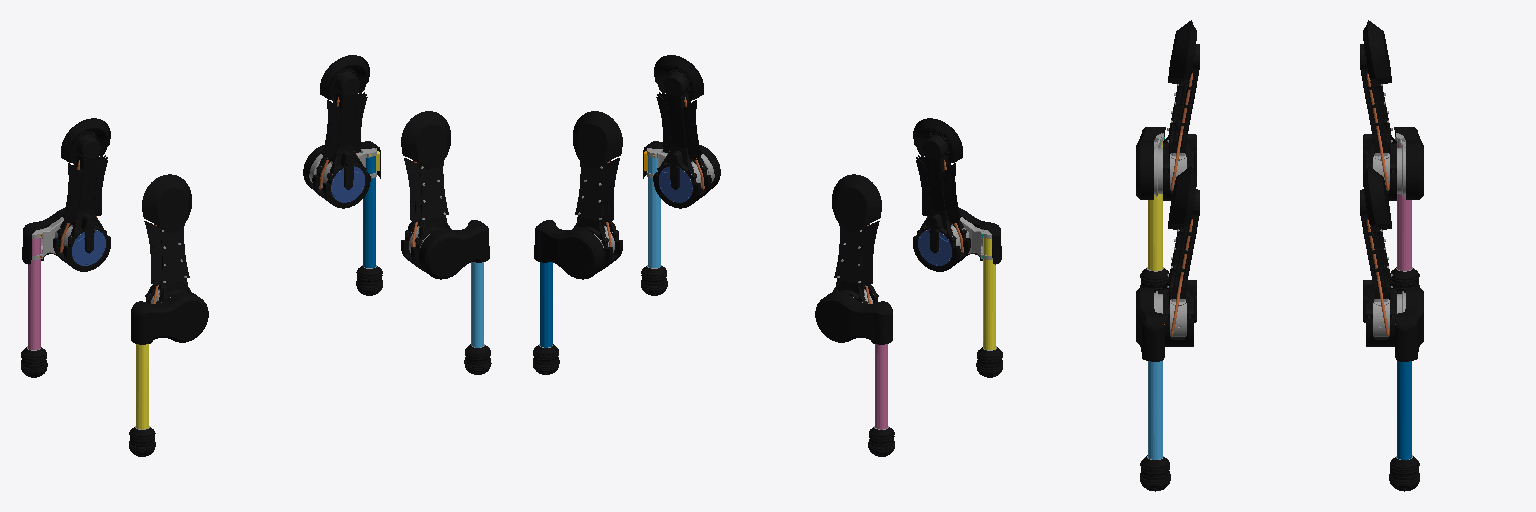
--- Render facts (derived) ---
The picture shows the robot from 3 angles, left to right: view 1: azimuth 30°, elevation 25°; view 2: azimuth 150°, elevation 25°; view 3: azimuth 270°, elevation 25°; orthographic projection.
Robot: anymal — 21 links, 20 joints (12 revolute, 8 fixed); root link base; default pose: all joints at 0.
Visible links, largest first — view 1: LH_THIGH, LF_THIGH, RF_THIGH, RH_THIGH, RH_SHANK, RF_SHANK, LH_ADAPTER, LF_ADAPTER, RF_ADAPTER, RH_ADAPTER, LH_SHANK, LF_SHANK; view 2: RH_THIGH, RF_THIGH, LF_THIGH, LH_THIGH, LH_SHANK, LF_SHANK, RH_ADAPTER, RF_ADAPTER, LF_ADAPTER, LH_ADAPTER, RH_SHANK, RF_SHANK; view 3: LF_THIGH, RF_THIGH, LH_THIGH, RH_THIGH, LF_ADAPTER, RF_ADAPTER, LF_SHANK, RF_SHANK, RH_ADAPTER, LH_ADAPTER, LH_SHANK, RH_SHANK.
Boxes of the visible links, x1=… form: LH_THIGH: x1=53, y1=118, x2=110, y2=271; LF_THIGH: x1=312, y1=55, x2=370, y2=208; RF_THIGH: x1=401, y1=111, x2=450, y2=271; RH_THIGH: x1=142, y1=174, x2=191, y2=303; RH_SHANK: x1=131, y1=292, x2=208, y2=344; RF_SHANK: x1=419, y1=220, x2=489, y2=279; LH_ADAPTER: x1=21, y1=230, x2=47, y2=377; LF_ADAPTER: x1=356, y1=148, x2=382, y2=295; RF_ADAPTER: x1=464, y1=262, x2=491, y2=374; RH_ADAPTER: x1=129, y1=344, x2=155, y2=456; LH_SHANK: x1=22, y1=208, x2=64, y2=264; LF_SHANK: x1=303, y1=141, x2=380, y2=191; RH_THIGH: x1=913, y1=118, x2=970, y2=271; RF_THIGH: x1=653, y1=55, x2=711, y2=208; LF_THIGH: x1=573, y1=111, x2=622, y2=271; LH_THIGH: x1=832, y1=174, x2=881, y2=303; LH_SHANK: x1=815, y1=292, x2=892, y2=344; LF_SHANK: x1=534, y1=220, x2=604, y2=279; RH_ADAPTER: x1=976, y1=230, x2=1002, y2=377; RF_ADAPTER: x1=641, y1=148, x2=667, y2=295; LF_ADAPTER: x1=533, y1=262, x2=559, y2=374; LH_ADAPTER: x1=868, y1=344, x2=894, y2=456; RH_SHANK: x1=959, y1=208, x2=1001, y2=264; RF_SHANK: x1=643, y1=141, x2=720, y2=191; LF_THIGH: x1=1360, y1=166, x2=1401, y2=346; RF_THIGH: x1=1158, y1=166, x2=1199, y2=346; LH_THIGH: x1=1360, y1=20, x2=1401, y2=200; RH_THIGH: x1=1158, y1=20, x2=1199, y2=200; LF_ADAPTER: x1=1389, y1=361, x2=1419, y2=491; RF_ADAPTER: x1=1140, y1=361, x2=1170, y2=491; LF_SHANK: x1=1394, y1=288, x2=1423, y2=361; RF_SHANK: x1=1136, y1=288, x2=1165, y2=361; RH_ADAPTER: x1=1140, y1=133, x2=1169, y2=293; LH_ADAPTER: x1=1390, y1=133, x2=1419, y2=293; LH_SHANK: x1=1394, y1=127, x2=1423, y2=199; RH_SHANK: x1=1136, y1=127, x2=1165, y2=199.
Size in the robot's own frame: 0.9429 by 0.568 by 0.6502 metres.
12 mesh visuals loaded from 8 distinct referenced files (5 Collada DAE); not drawn: 1 (reference not matched to a file when rendering), 4 (file found but could not be loaded).

URDF robot description (anymal):
<?xml version="1.0" encoding="utf-8"?>
<!-- =================================================================================== -->
<!--   Copyright 2019 ANYbotics, https://www.anybotics.com                               -->
<!-- =================================================================================== -->
<!-- This file contains the description of the ANYmal B robot. -->
<robot name="anymal"
    xmlns:xacro="http://www.ros.org/wiki/xacro">  
    <!-- Material for the visual primitives -->  
    <material name="anymal_material">    
        <color rgba="0.7 0.7 0.7 1.0"/>  
    </material>  
    <!-- Base link -->  
    <link name="base">    
        <visual>      
            <origin rpy="0 0 0" xyz="0 0 0"/>      
            <geometry>        
                <mesh filename="../meshes/anymal_base.dae" scale="0.001 0.001 0.001"/>      
            </geometry>      
            <!-- <material name="anymal_material"/>     -->
        </visual>    
        <collision>      
            <!-- Main Body -->      
            <origin rpy="0 0 0" xyz="0 0 0.08"/>      
            <geometry>        
                <box size="0.531 0.27 0.24"/>      
            </geometry>    
        </collision>    
        <inertial>      
            <origin rpy="0 0 0" xyz="-0.001960558279 -0.001413217745 0.050207125344"/>      
            <mass value="16.793507758"/>      
            <inertia ixx="0.217391101503" ixy="-0.00132873239126" ixz="-0.00228200226173" iyy="0.639432546734" iyz="-0.00138078263145" izz="0.62414077654"/>    
        </inertial>  
    </link>  
    <link name="LF_HIP">    
        <visual>      
            <origin rpy="0 0 0.0" xyz="0 0 0"/>      
            <geometry>        
                <mesh filename="../meshes/anymal_hip_l.dae" scale="0.001 0.001     0.001"/>      
            </geometry>      
            <!-- <material name="anymal_material"/>     -->
        </visual> 
        <inertial>      
            <origin rpy="0 0 0" xyz="0.064516258147 -0.003787101702 -0.000152184388"/>      
            <mass value="1.42462064"/>      
            <inertia ixx="0.00243023349564" ixy="-1.53023971e-05" ixz="-2.1819095354e-05" iyy="0.00230257239103" iyz="2.6473021273e-05" izz="0.0019806759227"/>    
        </inertial>  
    </link>  
    <!-- Hip joint -->  
    <joint name="LF_HAA" type="revolute">    
        <parent link="base"/>    
        <child link="LF_HIP"/>    
        <origin xyz="0.277 0.116 0.0"/>    
        <axis xyz="1 0 0"/>    
        <limit command_effort="80" current="10" effort="80" gear_velocity="10" lower="-9.42" upper="9.42" velocity="15"/>    
        <dynamics damping="0.0" friction="0.0"/>  
    </joint>  
    <link name="LF_THIGH">    
        <visual>      
            <origin rpy="0 0 0.0" xyz="0 0 0"/>      
            <geometry>        
                <mesh filename="../meshes/anymal_thigh_l.dae" scale="0.001 0.001     0.001"/>      
            </geometry>      
            <!-- <material name="anymal_material"/>     -->
        </visual>        
        <collision>      
            <!-- KFE actuator -->      
            <origin rpy="1.57079632679 0 0" xyz="0.0 0.069 -0.25"/>      
            <geometry>        
                <cylinder length="0.12" radius="0.06"/>      
            </geometry>    
        </collision>    
        <inertial>      
            <origin rpy="0 0 0" xyz="-0.003897968082 0.054226618537 -0.214583373795"/>      
            <mass value="1.634976467"/>      
            <inertia ixx="0.0120367944369" ixy="6.762065206e-05" ixz="0.000287806340448" iyy="0.0120643637939" iyz="-0.00140610131218" izz="0.00249422574881"/>    
        </inertial>  
    </link>  
    <!-- Thigh joint -->  
    <joint name="LF_HFE" type="revolute">    
        <parent link="LF_HIP"/>    
        <child link="LF_THIGH"/>    
        <origin xyz="0.0635                    0.041                    0.0"/>    
        <axis xyz="0 1 0"/>    
        <limit command_effort="80" effort="80" lower="-9.42" upper="9.42" velocity="20"/> 
        <dynamics damping="0.0" friction="0.0"/>  
    </joint>  
    <link name="LF_SHANK">    
        <visual>      
            <origin rpy="0 0 0.0" xyz="0 0 0"/>      
            <geometry>        
                <mesh filename="../meshes/anymal_shank_l.dae" scale="0.001 0.001     0.001"/>      
            </geometry>      
            <!-- <material name="anymal_material"/>     -->
        </visual>    
        <inertial>      
            <origin rpy="0 0 0" xyz="0.030816858139 -0.004617229294 0.000893125713"/>      
            <mass value="0.207204302"/>      
            <inertia ixx="0.0002104880248" ixy="-5.6750980345e-05" ixz="1.0127699391e-05" iyy="0.000676270210023" iyz="-8.22869024e-07" izz="0.000545032674924"/>    
        </inertial>  
    </link>  
    <!-- Shank joint -->  
    <joint name="LF_KFE" type="revolute">    
        <parent link="LF_THIGH"/>    
        <child link="LF_SHANK"/>    
        <origin xyz="0.0 0.109 -0.25"/>    
        <axis xyz="0 1 0"/>    
        <limit command_effort="80" effort="80" lower="-9.42" upper="9.42" velocity="20"/> 
        <dynamics damping="0.0" friction="0.0"/>  
    </joint>  
    <!-- Shank to Adapter joint -->  
    <joint name="LF_SHANK_TO_ADAPTER" type="fixed">    
        <parent link="LF_SHANK"/>    
        <child link="LF_ADAPTER"/>    
        <origin rpy="0.0 0.0 0.0" xyz="0.1 -0.02 0.0"/>  
    </joint>  
    <!-- Adapter link -->  
    <link name="LF_ADAPTER">    
        <visual>      
            <origin rpy="0 0 0.0" xyz="0 0 0.032"/>      
            <geometry>        
                <mesh filename="../meshes/anymal_foot.dae" scale="0.001 0.001     0.001"/>      
            </geometry>      
            <!-- <material name="anymal_material"/>     -->
        </visual>    
        <collision>      
            <origin rpy="0 0 0" xyz="0 0 -0.160625"/>      
            <geometry>        
                <cylinder length="0.25" radius="0.015"/>      
            </geometry>      
            <!-- <material name="anymal_material"/>     -->
        </collision>    
        <inertial>      
            <origin rpy="0 0 0" xyz="-8.66e-10 -1.472e-09 -0.244345749188"/>      
            <mass value="0.140170767"/>      
            <inertia ixx="0.00159938741862" ixy="-9.32e-13" ixz="1.039e-11" iyy="0.00159938741932" iyz="1.7563e-11" izz="5.4423177329e-05"/>    
        </inertial>  
    </link>  
    <!-- Adapter to Foot joint -->  
    <joint name="LF_ADAPTER_TO_FOOT" type="fixed" dont_collapse="true">    
        <parent link="LF_ADAPTER"/>    
        <child link="LF_FOOT"/>    
        <origin rpy="0.0 0.0 0.0" xyz="0.0 0.0 -0.32125"/>  
    </joint>  
    <!-- Foot link -->  
    <link name="LF_FOOT">    
        <collision>      
            <origin xyz="0 0 0.02325"/>      
            <geometry>        
                <sphere radius="0.031"/>      
            </geometry>    
        </collision> 
        <inertial>
            <origin rpy="0 0 0" xyz="0 0 0.02325"/>
            <mass value="0.05"/>
            <inertia ixx="0.001" ixy="-2.63048e-07" ixz="6.815581e-06" iyy="0.001" iyz="-6.815583e-06" izz="8.319196e-06"/>
        </inertial> 
    </link>  
    <link name="RF_HIP">    
        <visual>      
            <origin rpy="0 0 0.0" xyz="0 0 0"/>      
            <geometry>        
                <mesh filename="../meshes/anymal_hip_r.dae" scale="0.001 0.001     0.001"/>      
            </geometry>      
            <!-- <material name="anymal_material"/>     -->
        </visual>    
        <inertial>      
            <origin rpy="0 0 0" xyz="0.064516258147 0.003787101702 -0.000152184388"/>      
            <mass value="1.42462064"/>      
            <inertia ixx="0.00243023349564" ixy="1.53023971e-05" ixz="-2.1819095354e-05" iyy="0.00230257239103" iyz="-2.6473021273e-05" izz="0.0019806759227"/>    
        </inertial>  
    </link>  
    <!-- Hip joint -->  
    <joint name="RF_HAA" type="revolute">    
        <parent link="base"/>    
        <child link="RF_HIP"/>    
        <origin xyz="0.277 -0.116 0.0"/>    
        <axis xyz="1 0 0"/>    
        <limit command_effort="80" effort="80" lower="-9.42" upper="9.42" velocity="20"/>    
        <dynamics damping="0.0" friction="0.0"/>  
    </joint>  
    <link name="RF_THIGH">    
        <visual>      
            <origin rpy="0 0 0.0" xyz="0 0 0"/>      
            <geometry>        
                <mesh filename="../meshes/anymal_thigh_r.dae" scale="0.001 0.001     0.001"/>      
            </geometry>      
            <!-- <material name="anymal_material"/>     -->
        </visual>    
        <collision>      
            <!-- KFE actuator -->      
            <origin rpy="1.57079632679 0 0" xyz="0.0 -0.069 -0.25"/>      
            <geometry>        
                <cylinder length="0.12" radius="0.06"/>      
            </geometry>    
        </collision>    
        <inertial>      
            <origin rpy="0 0 0" xyz="-0.003897968082 -0.054226618537 -0.214583373795"/>      
            <mass value="1.634976467"/>      
            <inertia ixx="0.0120367944369" ixy="-6.762065206e-05" ixz="0.000287806340448" iyy="0.0120643637939" iyz="0.00140610131218" izz="0.00249422574881"/>    
        </inertial>  
    </link>  
    <!-- Thigh joint -->  
    <joint name="RF_HFE" type="revolute">    
        <parent link="RF_HIP"/>    
        <child link="RF_THIGH"/>    
        <origin xyz="0.0635                    -0.041                    0.0"/>    
        <axis xyz="0 1 0"/>    
        <limit command_effort="80" effort="80" lower="-9.42" upper="9.42" velocity="20"/> 
        <dynamics damping="0.0" friction="0.0"/>  
    </joint>  
    <link name="RF_SHANK">    
        <visual>      
            <origin rpy="0 0 0.0" xyz="0 0 0"/>      
            <geometry>        
                <mesh filename="../meshes/anymal_shank_r.dae" scale="0.001 0.001     0.001"/>      
            </geometry>      
            <!-- <material name="anymal_material"/>     -->
        </visual>       
        <inertial>      
            <origin rpy="0 0 0" xyz="0.030816858139 0.004617229294 0.000893125713"/>      
            <mass value="0.207204302"/>      
            <inertia ixx="0.0002104880248" ixy="5.6750980345e-05" ixz="1.0127699391e-05" iyy="0.000676270210023" iyz="8.22869024e-07" izz="0.000545032674924"/>    
        </inertial>  
    </link>  
    <!-- Shank joint -->  
    <joint name="RF_KFE" type="revolute">    
        <parent link="RF_THIGH"/>    
        <child link="RF_SHANK"/>    
        <origin xyz="0.0 -0.109 -0.25"/>    
        <axis xyz="0 1 0"/>    
        <limit command_effort="80" effort="80" lower="-9.42" upper="9.42" velocity="20"/> 
        <dynamics damping="0.0" friction="0.0"/>  
    </joint>  
    <!-- Shank to Adapter joint -->  
    <joint name="RF_SHANK_TO_ADAPTER" type="fixed">    
        <parent link="RF_SHANK"/>    
        <child link="RF_ADAPTER"/>    
        <origin rpy="-0.0 0.0 -0.0" xyz="0.1 0.02 0.0"/>  
    </joint>  
    <!-- Adapter link -->  
    <link name="RF_ADAPTER">    
        <visual>      
            <origin rpy="0 0 0.0" xyz="0 0 0.032"/>      
            <geometry>        
                <mesh filename="../meshes/anymal_foot.dae" scale="0.001 0.001     0.001"/>      
            </geometry>      
            <!-- <material name="anymal_material"/>     -->
        </visual>    
        <collision>      
            <origin rpy="0 0 0" xyz="0 0 -0.160625"/>      
            <geometry>        
                <cylinder length="0.25" radius="0.015"/>      
            </geometry>      
            <!-- <material name="anymal_material"/>     -->
        </collision>    
        <inertial>      
            <origin rpy="0 0 0" xyz="-8.66e-10 -1.472e-09 -0.244345749188"/>      
            <mass value="0.140170767"/>      
            <inertia ixx="0.00159938741862" ixy="-9.32e-13" ixz="1.039e-11" iyy="0.00159938741932" iyz="1.7563e-11" izz="5.4423177329e-05"/>    
        </inertial>  
    </link>  
    <!-- Adapter to Foot joint -->  
    <joint name="RF_ADAPTER_TO_FOOT" type="fixed" dont_collapse="true">    
        <parent link="RF_ADAPTER"/>    
        <child link="RF_FOOT"/>    
        <origin rpy="-0.0 0.0 -0.0" xyz="0.0 -0.0 -0.32125"/>  
    </joint>  
    <!-- Foot link -->  
    <link name="RF_FOOT">    
        <collision>      
            <origin xyz="0 0 0.02325"/>      
            <geometry>        
                <sphere radius="0.031"/>      
            </geometry>    
        </collision>
        <inertial>
            <origin rpy="0 0 0" xyz="0 0 0.02325"/>
            <mass value="0.05"/>
            <inertia ixx="0.001" ixy="-2.63048e-07" ixz="6.815581e-06" iyy="0.001" iyz="-6.815583e-06" izz="8.319196e-06"/>
        </inertial>   
    </link>  
    <link name="LH_HIP">    
        <visual>      
            <origin rpy="0 0 -3.14159265359" xyz="0 0 0"/>      
            <geometry>        
                <mesh filename="../meshes/anymal_hip_r.dae" scale="0.001 0.001     0.001"/>      
            </geometry>      
            <!-- <material name="anymal_material"/>     -->
        </visual>    
        <inertial>      
            <origin rpy="0 0 0" xyz="-0.064516258147 -0.003787101702 -0.000152184388"/>      
            <mass value="1.42462064"/>      
            <inertia ixx="0.00243023349564" ixy="1.53023971e-05" ixz="2.1819095354e-05" iyy="0.00230257239103" iyz="2.6473021273e-05" izz="0.0019806759227"/>    
        </inertial>  
    </link>  
    <!-- Hip joint -->  
    <joint name="LH_HAA" type="revolute">    
        <parent link="base"/>    
        <child link="LH_HIP"/>    
        <origin xyz="-0.277 0.116 0.0"/>    
        <axis xyz="1 0 0"/>    
        <limit command_effort="80" current="10" effort="80" gear_velocity="10" lower="-9.42" upper="9.42" velocity="15"/>    
        <dynamics damping="0.0" friction="0.0"/>  
    </joint>  
    <link name="LH_THIGH">    
        <visual>      
            <origin rpy="0 0 -3.14159265359" xyz="0 0 0"/>      
            <geometry>        
                <mesh filename="../meshes/anymal_thigh_r.dae" scale="0.001 0.001     0.001"/>      
            </geometry>      
            <!-- <material name="anymal_material"/>     -->
        </visual>    
        <collision>      
            <!-- KFE actuator -->      
            <origin rpy="1.57079632679 0 0" xyz="0.0 0.069 -0.25"/>      
            <geometry>        
                <cylinder length="0.12" radius="0.06"/>      
            </geometry>    
        </collision>    
        <inertial>      
            <origin rpy="0 0 0" xyz="0.003897968082 0.054226618537 -0.214583373795"/>      
            <mass value="1.634976467"/>      
            <inertia ixx="0.0120367944369" ixy="-6.762065206e-05" ixz="-0.000287806340448" iyy="0.0120643637939" iyz="-0.00140610131218" izz="0.00249422574881"/>    
        </inertial>  
    </link>  
    <!-- Thigh joint -->  
    <joint name="LH_HFE" type="revolute">    
        <parent link="LH_HIP"/>    
        <child link="LH_THIGH"/>    
        <origin xyz="-0.0635                    0.041                    0.0"/>    
        <axis xyz="0 1 0"/>    
        <limit command_effort="80" effort="80" lower="-9.42" upper="9.42" velocity="20"/> 
        <dynamics damping="0.0" friction="0.0"/>  
    </joint>  
    <link name="LH_SHANK">    
        <visual>      
            <origin rpy="0 0 -3.14159265359" xyz="0 0 0"/>      
            <geometry>        
                <mesh filename="../meshes/anymal_shank_r.dae" scale="0.001 0.001     0.001"/>      
            </geometry>      
            <!-- <material name="anymal_material"/>     -->
        </visual>       
        <inertial>      
            <origin rpy="0 0 0" xyz="-0.030816858139 -0.004617229294 0.000893125713"/>      
            <mass value="0.207204302"/>      
            <inertia ixx="0.0002104880248" ixy="5.6750980345e-05" ixz="-1.0127699391e-05" iyy="0.000676270210023" iyz="-8.22869024e-07" izz="0.000545032674924"/>    
        </inertial>  
    </link>  
    <!-- Shank joint -->  
    <joint name="LH_KFE" type="revolute">    
        <parent link="LH_THIGH"/>    
        <child link="LH_SHANK"/>    
        <origin xyz="-0.0 0.109 -0.25"/>    
        <axis xyz="0 1 0"/>    
        <limit command_effort="80" effort="80" lower="-9.42" upper="9.42" velocity="20"/> 
        <dynamics damping="0.0" friction="0.0"/>  
    </joint>  
    <!-- Shank to Adapter joint -->  
    <joint name="LH_SHANK_TO_ADAPTER" type="fixed">    
        <parent link="LH_SHANK"/>    
        <child link="LH_ADAPTER"/>    
        <origin rpy="0.0 -0.0 -0.0" xyz="-0.1 -0.02 0.0"/>  
    </joint>  
    <!-- Adapter link -->  
    <link name="LH_ADAPTER">    
        <visual>      
            <origin rpy="0 0 -3.14159265359" xyz="0 0 0.032"/>      
            <geometry>        
                <mesh filename="../meshes/anymal_foot.dae" scale="0.001 0.001     0.001"/>      
            </geometry>      
            <!-- <material name="anymal_material"/>     -->
        </visual>    
        <collision>      
            <origin rpy="0 0 0" xyz="0 0 -0.160625"/>      
            <geometry>        
                <cylinder length="0.25" radius="0.015"/>      
            </geometry>      
            <!-- <material name="anymal_material"/>     -->
        </collision>    
        <inertial>      
            <origin rpy="0 0 0" xyz="-8.66e-10 -1.472e-09 -0.244345749188"/>      
            <mass value="0.140170767"/>      
            <inertia ixx="0.00159938741862" ixy="-9.32e-13" ixz="1.039e-11" iyy="0.00159938741932" iyz="1.7563e-11" izz="5.4423177329e-05"/>    
        </inertial>  
    </link>  
    <!-- Adapter to Foot joint -->  
    <joint name="LH_ADAPTER_TO_FOOT" type="fixed" dont_collapse="true">    
        <parent link="LH_ADAPTER"/>    
        <child link="LH_FOOT"/>    
        <origin rpy="0.0 -0.0 -0.0" xyz="-0.0 0.0 -0.32125"/>  
    </joint>  
    <!-- Foot link -->  
    <link name="LH_FOOT">    
        <collision>      
            <origin xyz="0 0 0.02325"/>      
            <geometry>        
                <sphere radius="0.031"/>      
            </geometry>    
        </collision>  
        <inertial>
            <origin rpy="0 0 0" xyz="0 0 0.02325"/>
            <mass value="0.05"/>
            <inertia ixx="0.001" ixy="-2.63048e-07" ixz="6.815581e-06" iyy="0.001" iyz="-6.815583e-06" izz="8.319196e-06"/>
        </inertial> 
    </link>  
    <link name="RH_HIP">    
        <visual>      
            <origin rpy="0 0 -3.14159265359" xyz="0 0 0"/>      
            <geometry>        
                <mesh filename="../meshes/anymal_hip_l.dae" scale="0.001 0.001     0.001"/>      
            </geometry>      
            <!-- <material name="anymal_material"/>     -->
        </visual>    
        <inertial>      
            <origin rpy="0 0 0" xyz="-0.064516258147 0.003787101702 -0.000152184388"/>      
            <mass value="1.42462064"/>      
            <inertia ixx="0.00243023349564" ixy="-1.53023971e-05" ixz="2.1819095354e-05" iyy="0.00230257239103" iyz="-2.6473021273e-05" izz="0.0019806759227"/>    
        </inertial>  
    </link>  
    <!-- Hip joint -->  
    <joint name="RH_HAA" type="revolute">    
        <parent link="base"/>    
        <child link="RH_HIP"/>    
        <origin xyz="-0.277 -0.116 0.0"/>    
        <axis xyz="1 0 0"/>    
        <limit command_effort="80" current="10" effort="80" gear_velocity="10" lower="-9.42" upper="9.42" velocity="15"/>    
        <dynamics damping="0.0" friction="0.0"/>  
    </joint>  
    <link name="RH_THIGH">    
        <visual>      
            <origin rpy="0 0 -3.14159265359" xyz="0 0 0"/>      
            <geometry>        
                <mesh filename="../meshes/anymal_thigh_l.dae" scale="0.001 0.001     0.001"/>      
            </geometry>      
            <!-- <material name="anymal_material"/>     -->
        </visual>    
        <collision>      
            <!-- KFE actuator -->      
            <origin rpy="1.57079632679 0 0" xyz="0.0 -0.069 -0.25"/>      
            <geometry>        
                <cylinder length="0.12" radius="0.06"/>      
            </geometry>    
        </collision>
        <inertial>      
            <origin rpy="0 0 0" xyz="0.003897968082 -0.054226618537 -0.214583373795"/>      
            <mass value="1.634976467"/>      
            <inertia ixx="0.0120367944369" ixy="6.762065206e-05" ixz="-0.000287806340448" iyy="0.0120643637939" iyz="0.00140610131218" izz="0.00249422574881"/>    
        </inertial>  
    </link>  
    <!-- Thigh joint -->  
    <joint name="RH_HFE" type="revolute">    
        <parent link="RH_HIP"/>    
        <child link="RH_THIGH"/>    
        <origin xyz="-0.0635                    -0.041                    0.0"/>    
        <axis xyz="0 1 0"/>    
        <limit command_effort="80" effort="80" lower="-9.42" upper="9.42" velocity="20"/> 
        <dynamics damping="0.0" friction="0.0"/>  
    </joint>  
    <link name="RH_SHANK">    
        <visual>      
            <origin rpy="0 0 -3.14159265359" xyz="0 0 0"/>      
            <geometry>        
                <mesh filename="../meshes/anymal_shank_l.dae" scale="0.001 0.001     0.001"/>      
            </geometry>      
            <!-- <material name="anymal_material"/>     -->
        </visual>      
        <inertial>      
            <origin rpy="0 0 0" xyz="-0.030816858139 0.004617229294 0.000893125713"/>      
            <mass value="0.207204302"/>      
            <inertia ixx="0.0002104880248" ixy="-5.6750980345e-05" ixz="-1.0127699391e-05" iyy="0.000676270210023" iyz="8.22869024e-07" izz="0.000545032674924"/>    
        </inertial>  
    </link>  
    <!-- Shank joint -->  
    <joint name="RH_KFE" type="revolute">    
        <parent link="RH_THIGH"/>    
        <child link="RH_SHANK"/>    
        <origin xyz="-0.0 -0.109 -0.25"/>    
        <axis xyz="0 1 0"/>    
        <limit command_effort="80" effort="80" lower="-9.42" upper="9.42" velocity="20"/> 
        <dynamics damping="0.0" friction="0.0"/>  
    </joint>  
    <!-- Shank to Adapter joint -->  
    <joint name="RH_SHANK_TO_ADAPTER" type="fixed">    
        <parent link="RH_SHANK"/>    
        <child link="RH_ADAPTER"/>    
        <origin rpy="-0.0 -0.0 0.0" xyz="-0.1 0.02 0.0"/>  
    </joint>  
    <!-- Adapter link -->  
    <link name="RH_ADAPTER">    
        <visual>      
            <origin rpy="0 0 -3.14159265359" xyz="0 0 0.032"/>      
            <geometry>        
                <mesh filename="../meshes/anymal_foot.dae" scale="0.001 0.001     0.001"/>      
            </geometry>      
            <!-- <material name="anymal_material"/>     -->
        </visual>    
        <collision>      
            <origin rpy="0 0 0" xyz="0 0 -0.160625"/>      
            <geometry>        
                <cylinder length="0.25" radius="0.015"/>      
            </geometry>      
            <!-- <material name="anymal_material"/>     -->
        </collision>    
        <inertial>      
            <origin rpy="0 0 0" xyz="-8.66e-10 -1.472e-09 -0.244345749188"/>      
            <mass value="0.140170767"/>      
            <inertia ixx="0.00159938741862" ixy="-9.32e-13" ixz="1.039e-11" iyy="0.00159938741932" iyz="1.7563e-11" izz="5.4423177329e-05"/>    
        </inertial>  
    </link>  
    <!-- Adapter to Foot joint -->  
    <joint name="RH_ADAPTER_TO_FOOT" type="fixed" dont_collapse="true">    
        <parent link="RH_ADAPTER"/>    
        <child link="RH_FOOT"/>    
        <origin rpy="-0.0 -0.0 0.0" xyz="-0.0 -0.0 -0.32125"/>  
    </joint>  
    <!-- Foot link -->  
    <link name="RH_FOOT">    
        <collision>      
            <origin xyz="0 0 0.02325"/>      
            <geometry>        
                <sphere radius="0.031"/>      
            </geometry>    
        </collision>  
        <inertial>
            <origin rpy="0 0 0" xyz="0 0 0.02325"/>
            <mass value="0.05"/>
            <inertia ixx="0.001" ixy="-2.63048e-07" ixz="6.815581e-06" iyy="0.001" iyz="-6.815583e-06" izz="8.319196e-06"/>
        </inertial> 
    </link>  
</robot>
